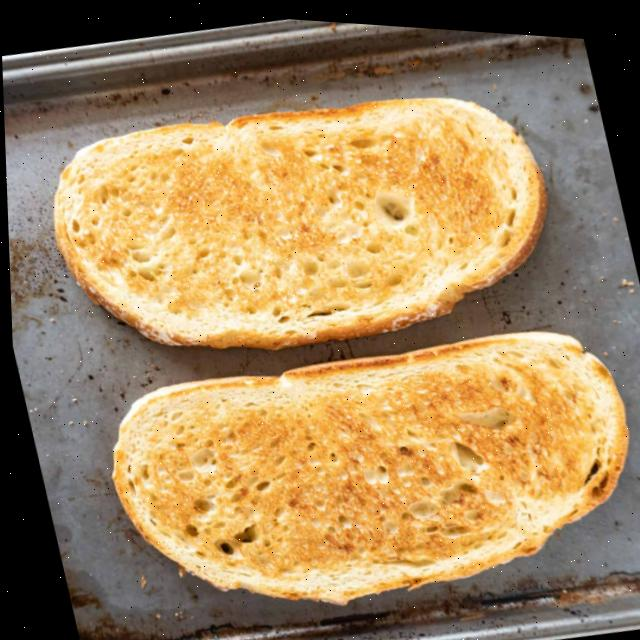Bread: (108, 325, 624, 599), (52, 92, 544, 346)
